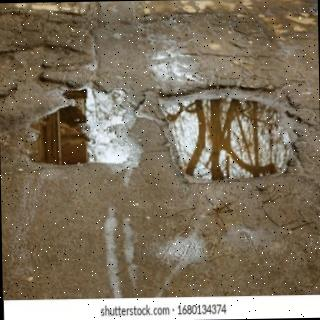pothole: (159, 85, 300, 180), (32, 88, 131, 165)
